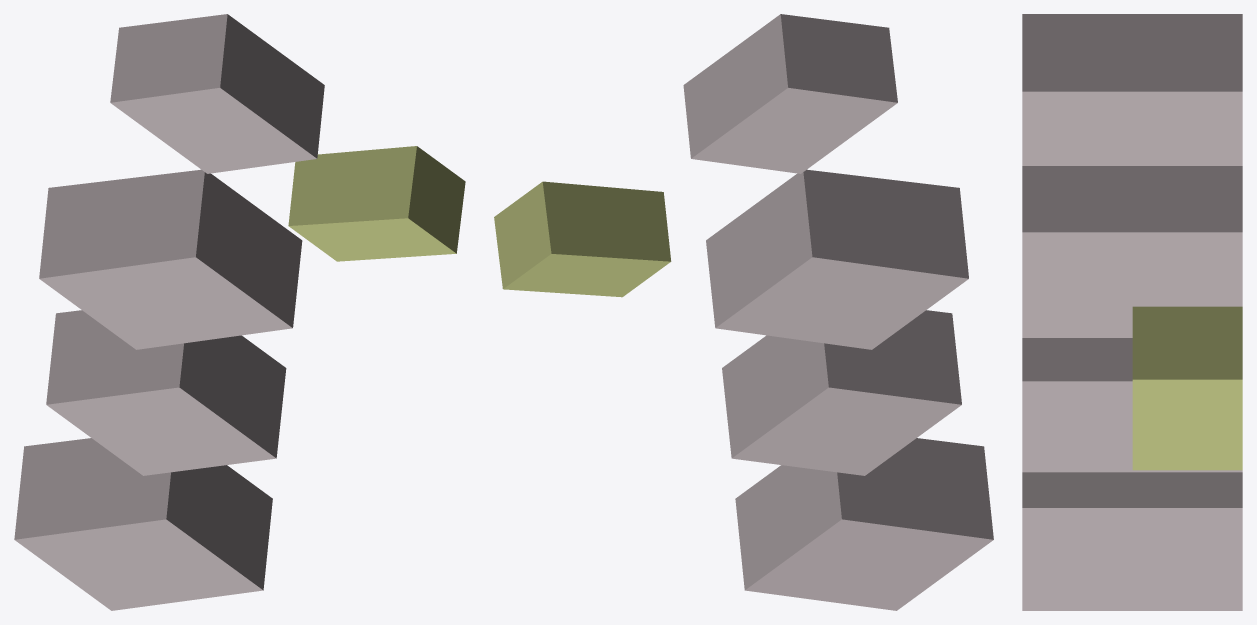
The picture shows the model from 3 angles, left to right: view 1: azimuth 30°, elevation 25°; view 2: azimuth 150°, elevation 25°; view 3: azimuth 270°, elevation 25°; orthographic projection. The views are drawn at different scales.
Visible parts, largest first — view 1: 0_0_3_1_3_3_2_2_3; view 2: 0_0_3_1_3_3_2_2_3; view 3: 0_0_3_1_3_3_2_2_3.
Part boxes in pixels (x1=…): 0_0_3_1_3_3_2_2_3: x1=14, y1=14, x2=465, y2=610; 0_0_3_1_3_3_2_2_3: x1=494, y1=14, x2=993, y2=610; 0_0_3_1_3_3_2_2_3: x1=1022, y1=14, x2=1242, y2=610.
Size of the model in its own units: 43.05 by 51.4 by 18.
